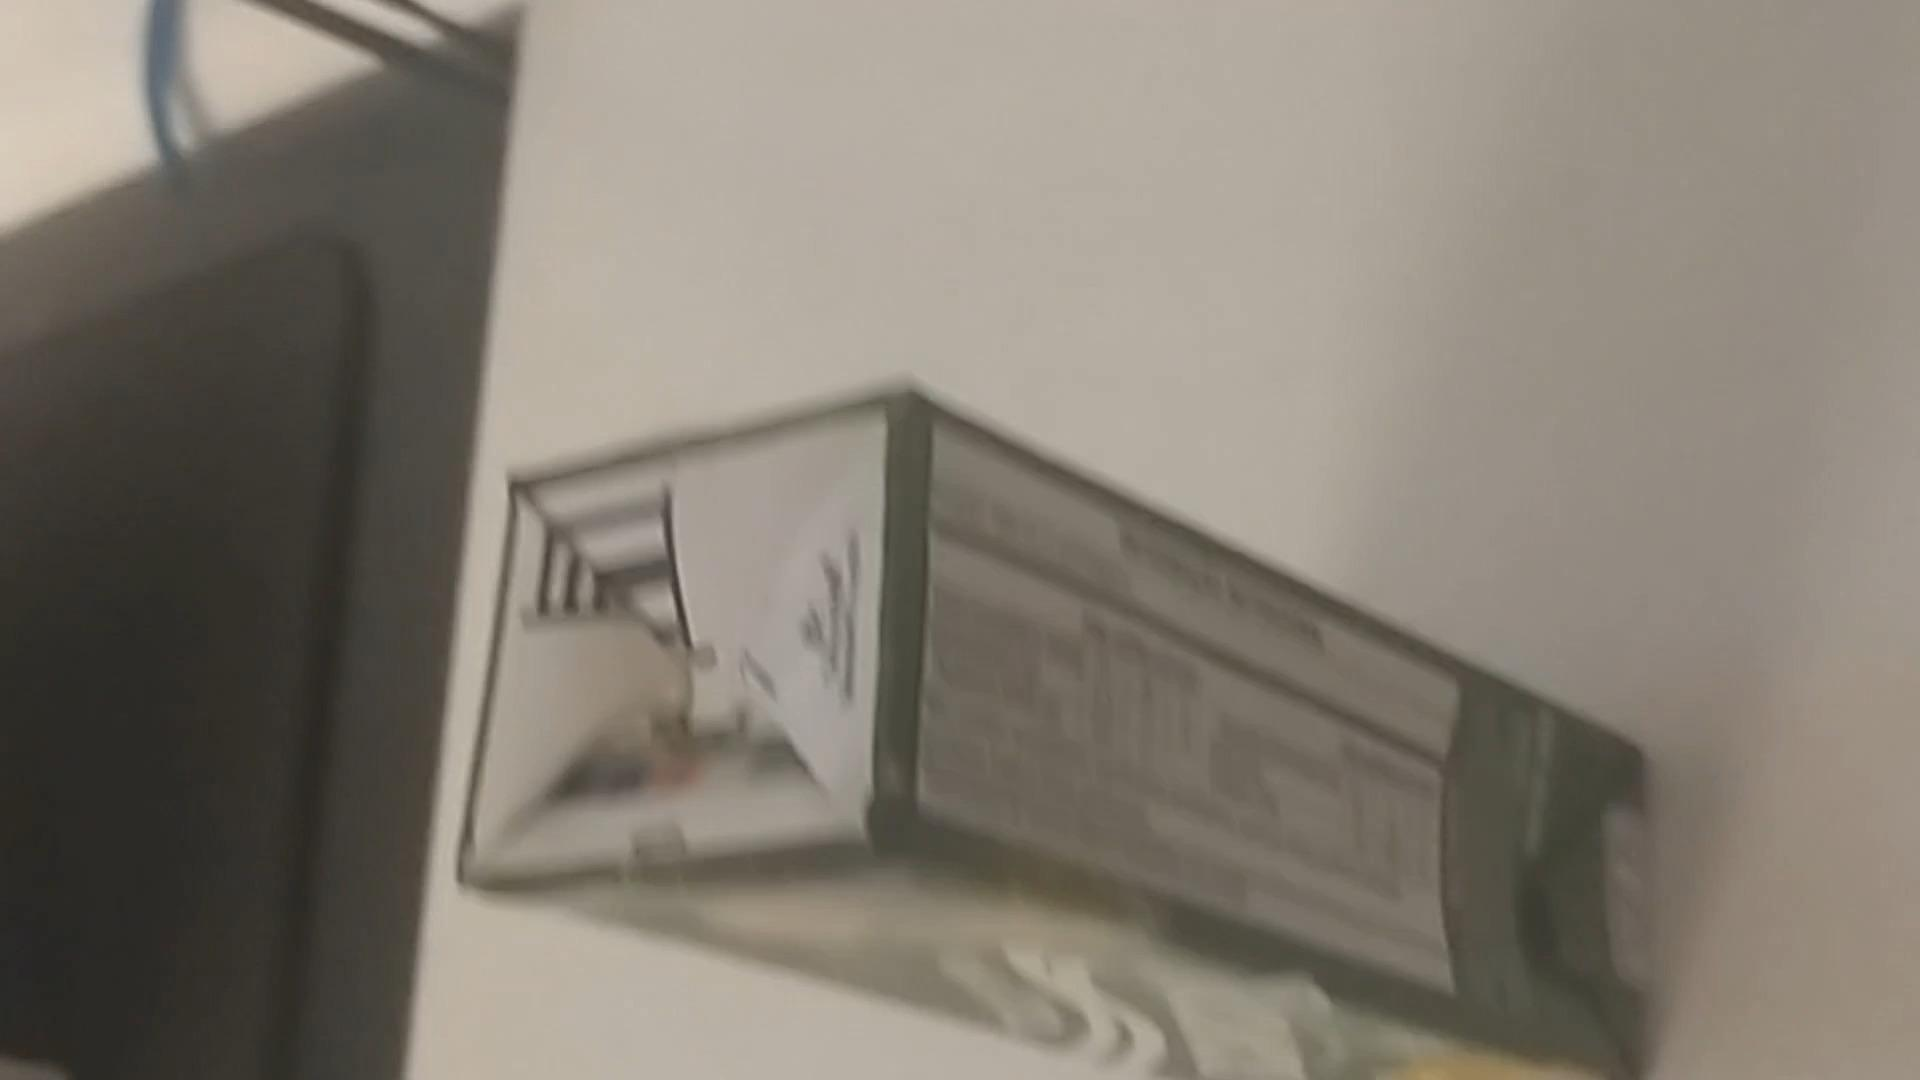coco: (463, 372, 1655, 1080)
